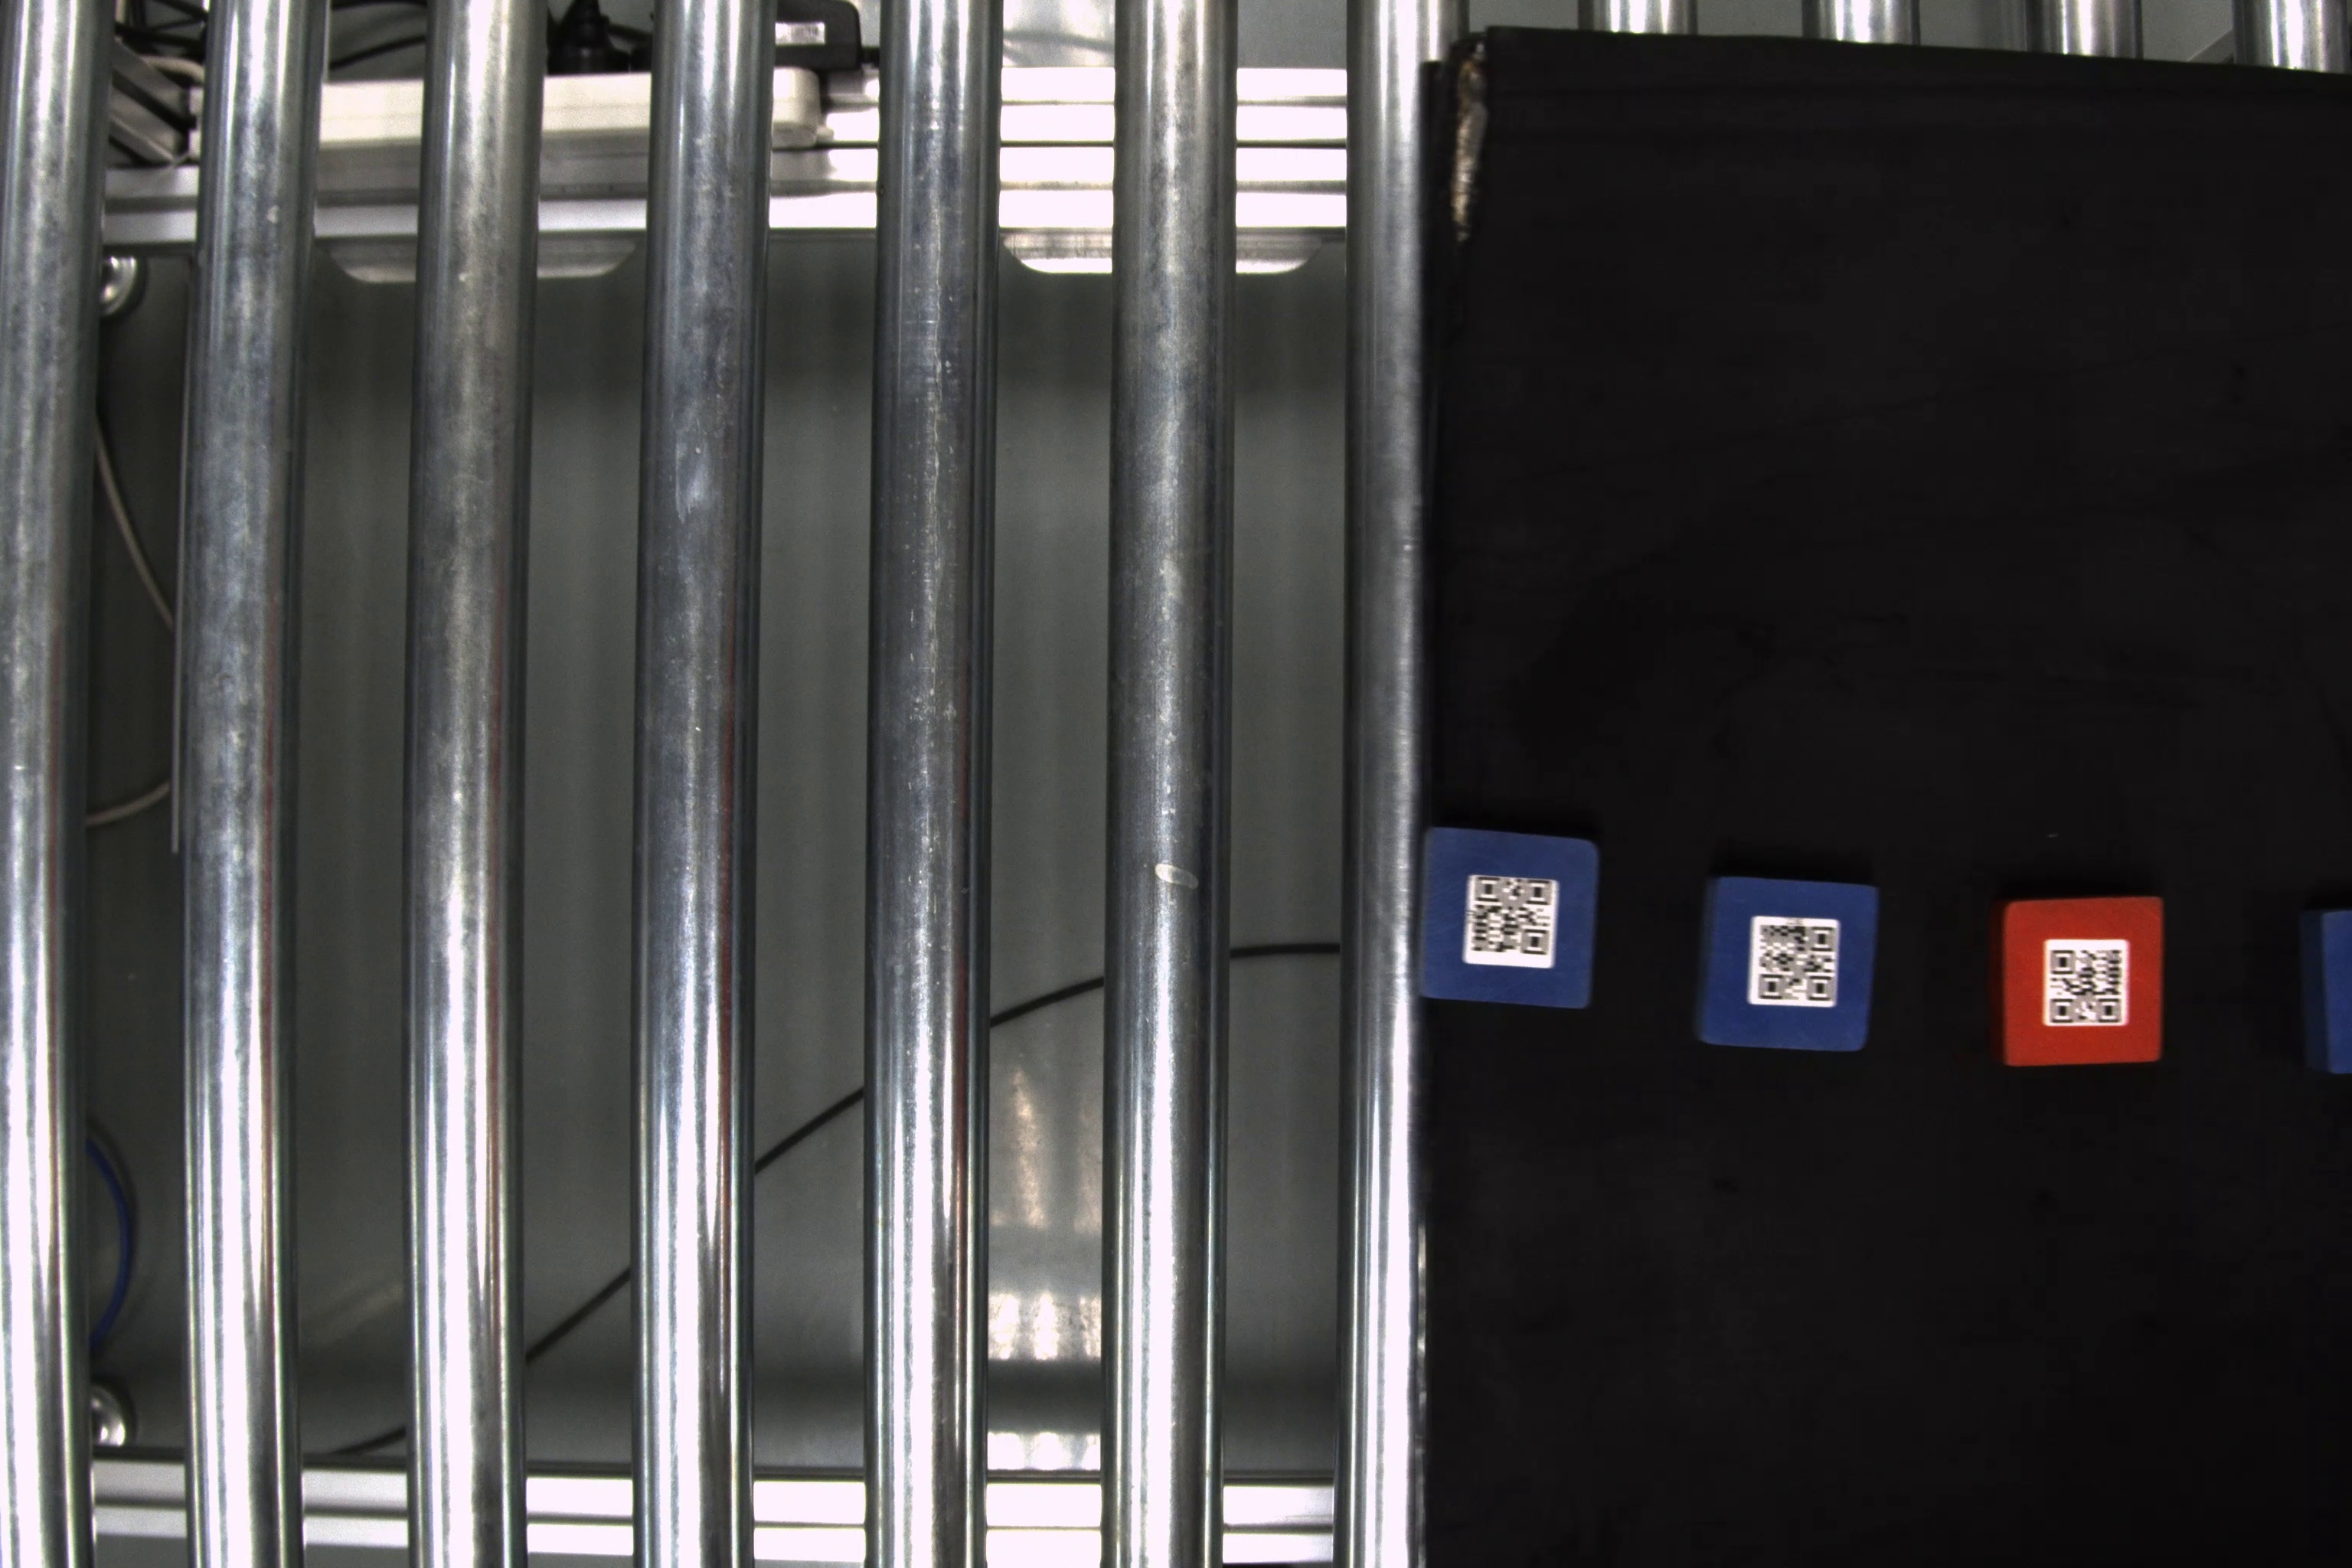wood: (1416, 822, 1603, 1017), (1696, 868, 1874, 1043), (1998, 898, 2170, 1062)
